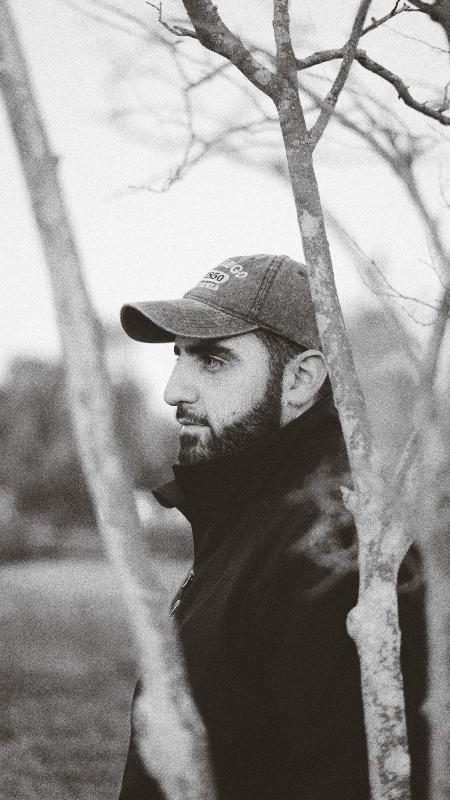Person: (119, 253, 426, 800)
